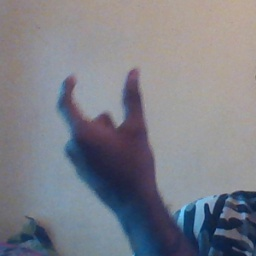U: (56, 64, 160, 186)
